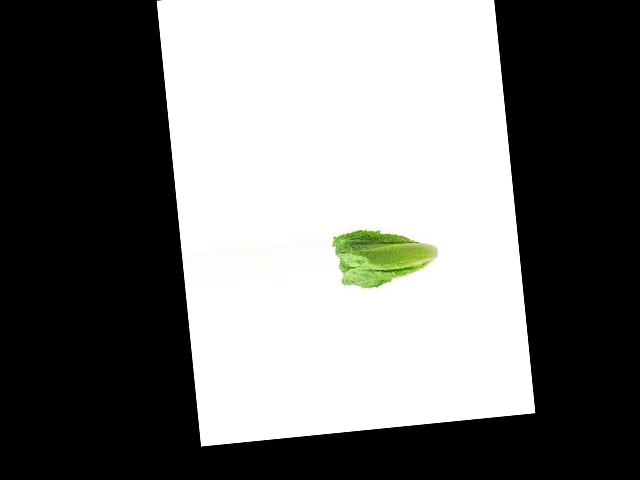lettuce: (334, 198, 420, 321)
